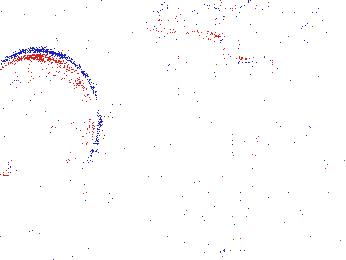moon jellyfish: (1, 53, 99, 188), (154, 131, 258, 216), (223, 1, 312, 63), (309, 73, 346, 169), (142, 1, 229, 41)
